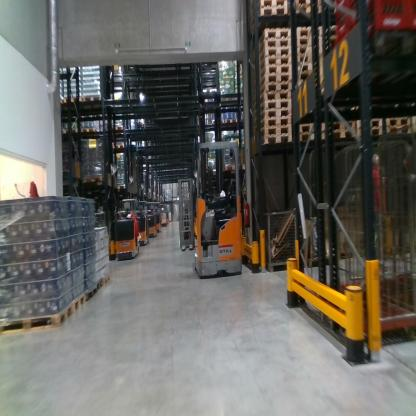forklift: (192, 58, 249, 282), (106, 138, 141, 264), (128, 157, 151, 245), (144, 200, 157, 241), (155, 199, 161, 236)
pallet: (82, 172, 110, 289), (2, 302, 72, 336), (253, 5, 287, 28), (250, 82, 293, 100), (258, 26, 290, 50), (250, 98, 291, 114), (250, 91, 291, 107), (250, 0, 286, 18), (255, 37, 292, 53), (253, 56, 290, 72), (251, 127, 295, 140), (253, 74, 293, 88), (252, 48, 292, 62), (252, 132, 295, 145), (296, 118, 327, 135), (251, 108, 293, 119), (66, 290, 86, 313), (256, 65, 292, 77), (295, 53, 327, 66), (292, 7, 326, 19), (324, 119, 357, 131), (82, 90, 106, 106), (386, 124, 412, 138), (355, 116, 381, 129), (296, 36, 324, 48), (294, 26, 324, 36), (298, 133, 327, 143), (325, 131, 357, 140), (387, 114, 410, 126), (250, 120, 295, 126), (293, 1, 322, 10), (295, 66, 326, 74), (295, 74, 317, 85), (359, 127, 383, 137), (65, 92, 82, 106), (295, 45, 324, 53), (91, 276, 103, 294), (327, 26, 342, 40), (115, 179, 126, 196), (63, 126, 79, 137), (81, 288, 95, 299), (110, 143, 127, 152), (83, 126, 98, 136), (108, 125, 126, 133)
stillage: (251, 203, 301, 278)
